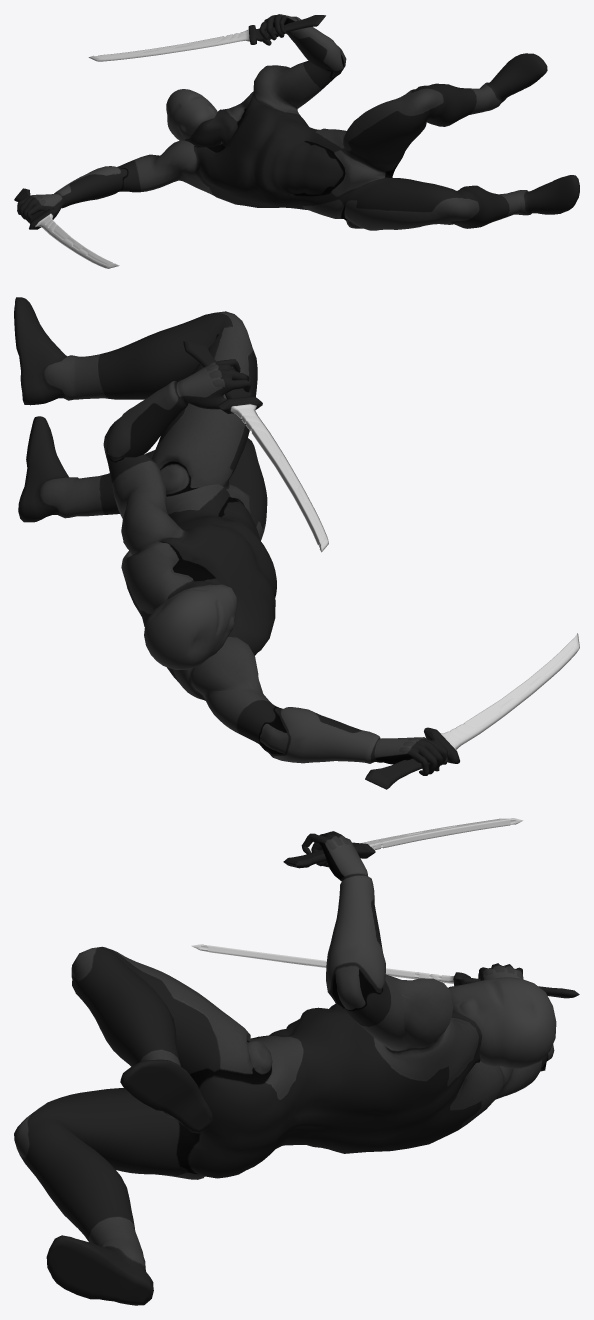
The picture shows the model from 3 angles, top to bottom: view 1: azimuth 30°, elevation 25°; view 2: azimuth 150°, elevation 25°; view 3: azimuth 270°, elevation 25°; orthographic projection. The views are drawn at different scales.
Parts seen in each view (by area): view 1: Cyborg_Ninja_Killer, Sword_l, Sword_l001; view 2: Cyborg_Ninja_Killer, Sword_l001, Sword_l; view 3: Cyborg_Ninja_Killer, Sword_l, Sword_l001.
Part boxes in pixels (x1=…): Cyborg_Ninja_Killer: x1=17, y1=14, x2=579, y2=230; Sword_l: x1=88, y1=15, x2=325, y2=61; Sword_l001: x1=14, y1=188, x2=119, y2=268; Cyborg_Ninja_Killer: x1=14, y1=297, x2=447, y2=775; Sword_l001: x1=365, y1=633, x2=579, y2=789; Sword_l: x1=183, y1=341, x2=328, y2=552; Cyborg_Ninja_Killer: x1=14, y1=831, x2=556, y2=1305; Sword_l: x1=283, y1=818, x2=523, y2=868; Sword_l001: x1=191, y1=944, x2=579, y2=998.
Size of the model in its own units: 177 by 80.14 by 129.
2 materials, 2 textured.
